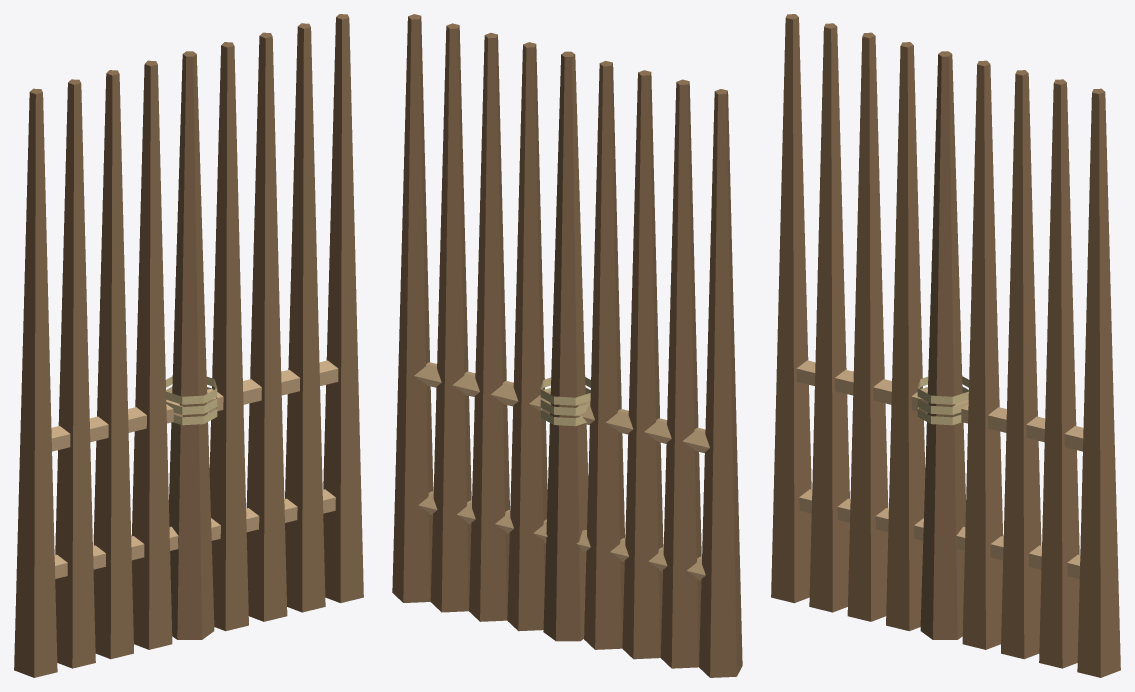
File: palisade_0a.glb
3 views of the same model, side by side, from view 1: azimuth 30°, elevation 25°; view 2: azimuth 150°, elevation 25°; view 3: azimuth 330°, elevation 25° (orthographic).
Parts seen in each view (by area): view 1: palisade_0a; view 2: palisade_0a; view 3: palisade_0a.
Boxes of the visible parts, left/top/right/bottom form: palisade_0a: left=14, top=14, right=363, bottom=677; palisade_0a: left=392, top=14, right=742, bottom=677; palisade_0a: left=771, top=14, right=1120, bottom=677.
Bounding box in the file's own units: 1.12 × 1.8 × 0.162.
